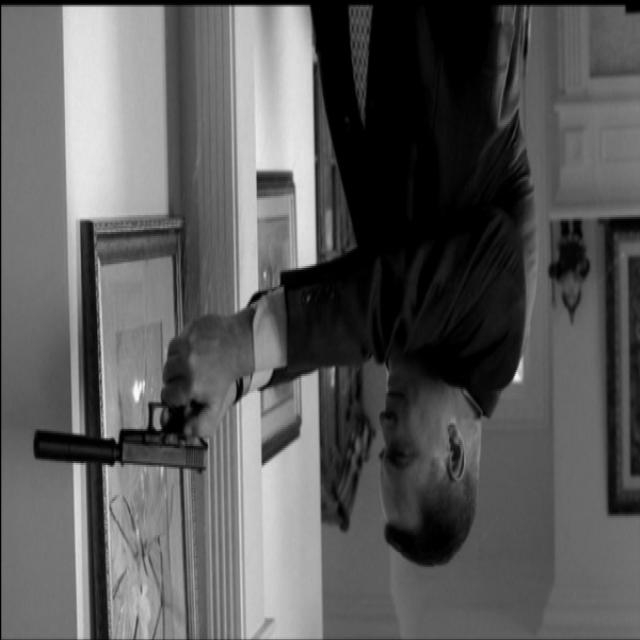weapons: (26, 358, 220, 492)
